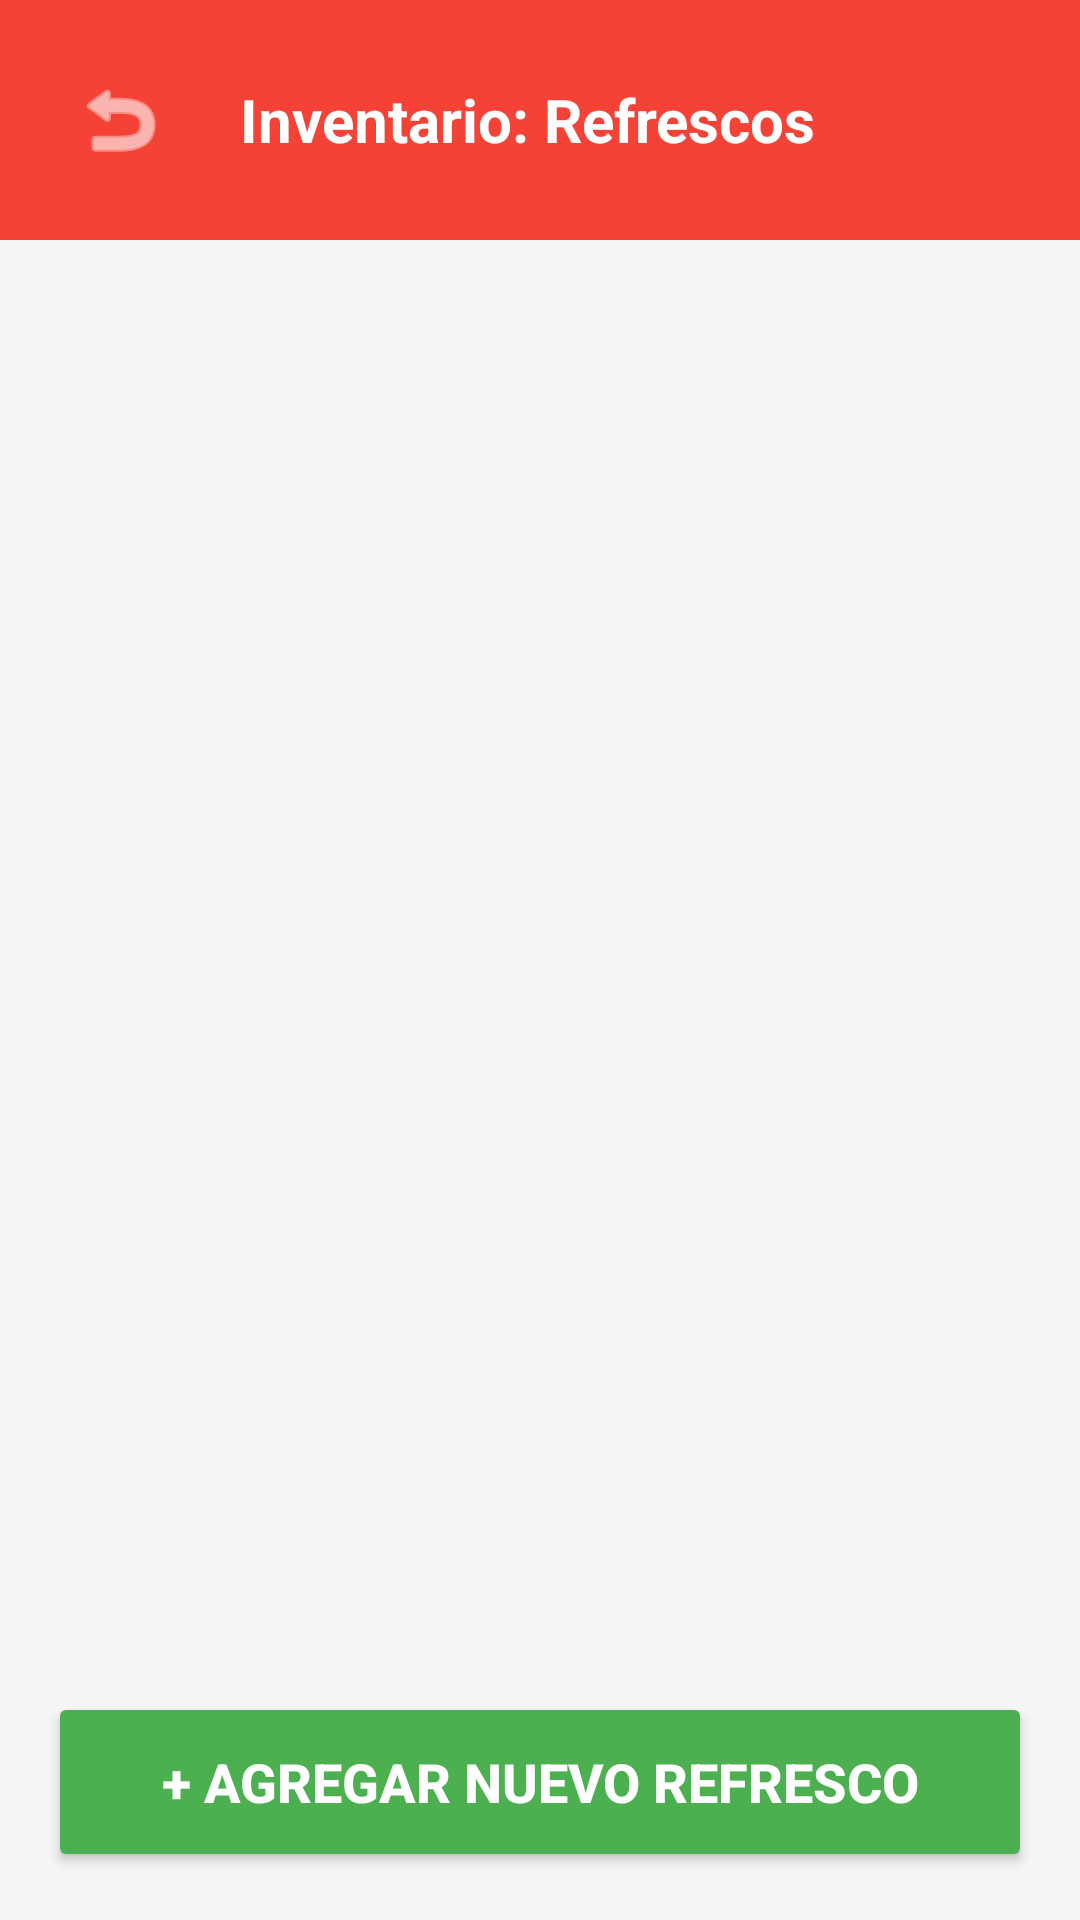

Icon click points for this 1080w x 1920h phone screenshot, format point (x, y):
Regresar: point (121, 120)
